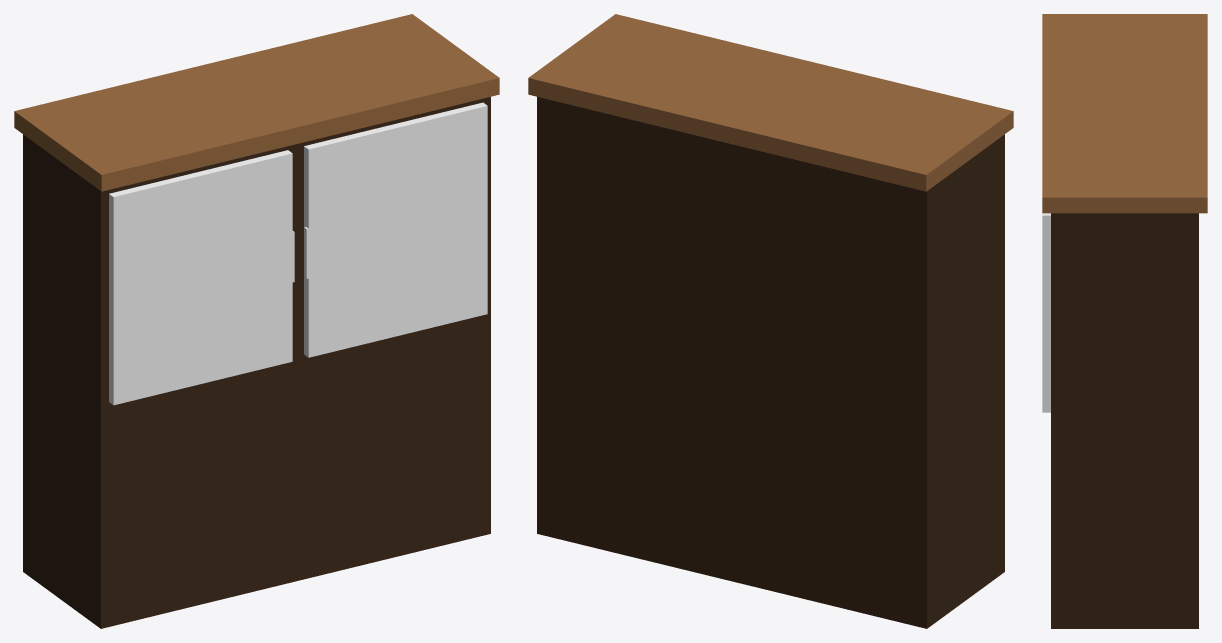
File: entrycabinet.glb
3 renders of one model, left to right at view 1: azimuth 30°, elevation 25°; view 2: azimuth 150°, elevation 25°; view 3: azimuth 270°, elevation 25°, orthographic. The views are drawn at different scales.
Parts seen in each view (by area): view 1: material-0-body, material-1-door, material-2-top; view 2: material-0-body, material-2-top; view 3: material-0-body, material-2-top, material-1-door.
Boxes of the visible parts, bbox=[...] form: material-0-body: bbox=[23, 97, 490, 628]; material-1-door: bbox=[109, 102, 487, 405]; material-2-top: bbox=[14, 14, 499, 191]; material-0-body: bbox=[537, 97, 1004, 628]; material-2-top: bbox=[528, 14, 1013, 191]; material-0-body: bbox=[1051, 213, 1198, 628]; material-2-top: bbox=[1042, 14, 1207, 213]; material-1-door: bbox=[1042, 213, 1050, 412].
Bounding box in the file's own units: 1 × 1.1 × 0.38.
